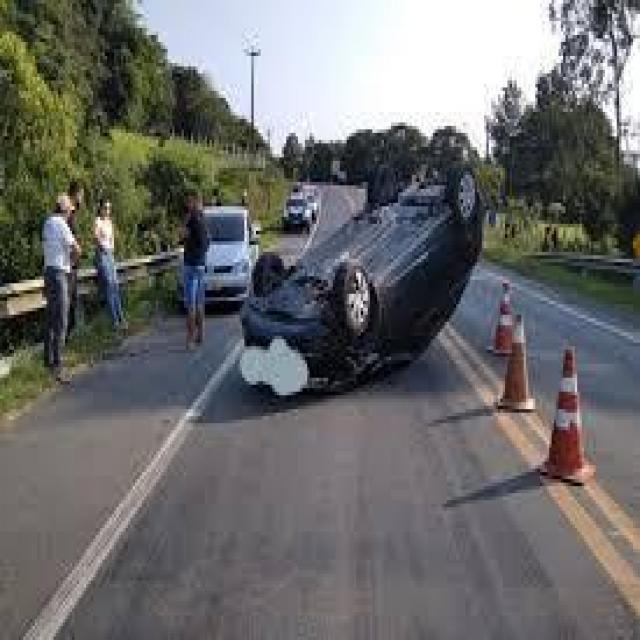accident: (238, 158, 487, 402)
